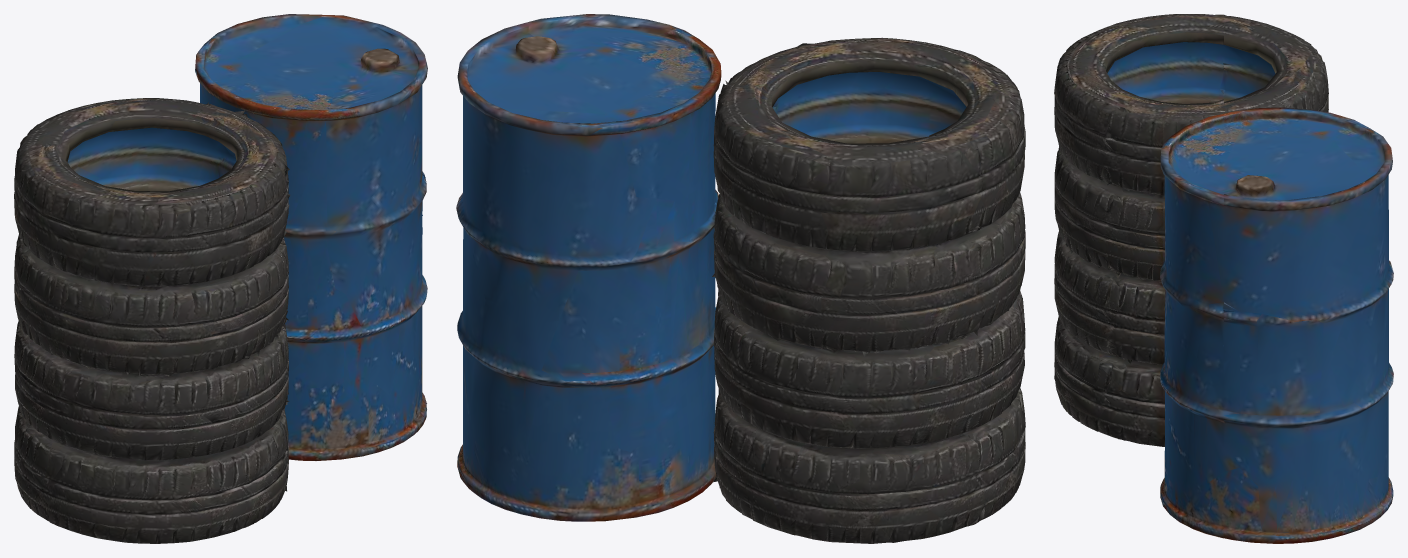
File: ws_tyres.glb
3 renders of one model, left to right at view 1: azimuth 30°, elevation 25°; view 2: azimuth 150°, elevation 25°; view 3: azimuth 270°, elevation 25°, orthographic. The views are drawn at different scales.
Size of the model in its own units: 0.9807 by 0.7782 by 0.6973.
Materials: 1 (1 with a texture image).
